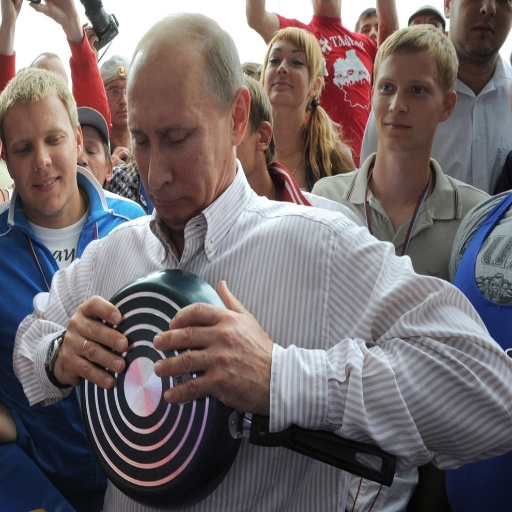hand: (150, 279, 273, 415), (43, 294, 127, 399), (27, 0, 76, 31), (81, 19, 99, 61), (0, 0, 23, 23), (109, 143, 129, 169)
